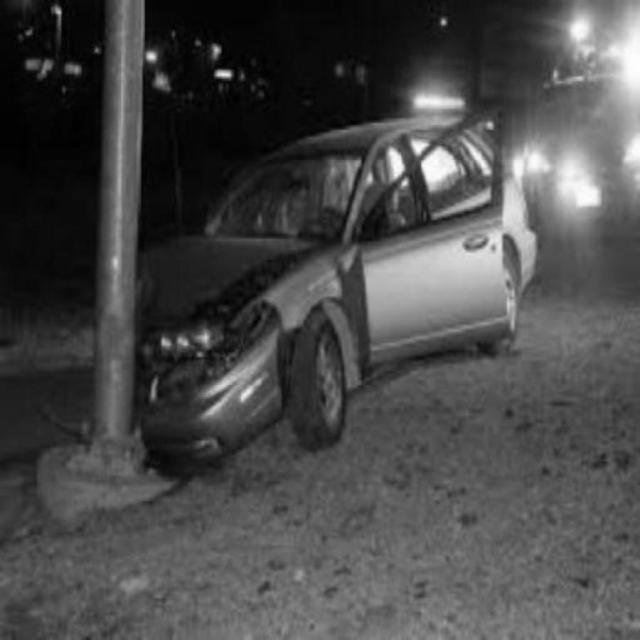accident: (37, 123, 525, 465)
